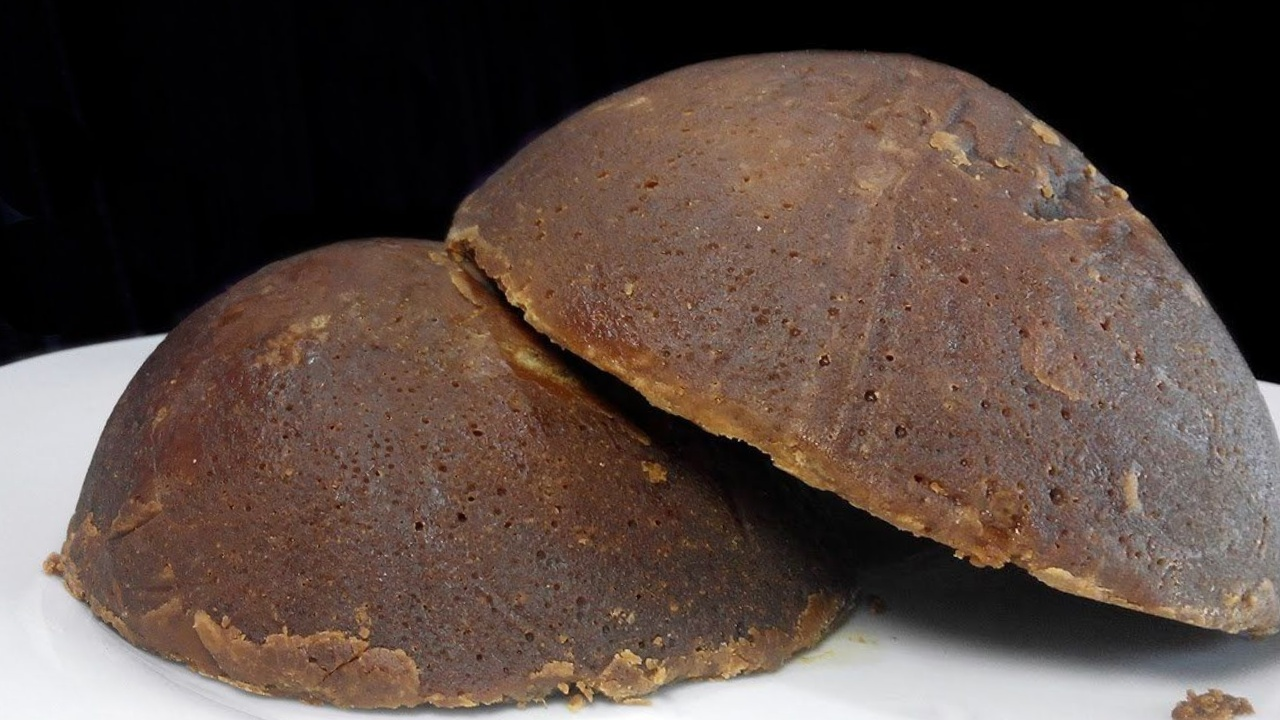hakuru: (424, 28, 1280, 646), (15, 226, 886, 720)
